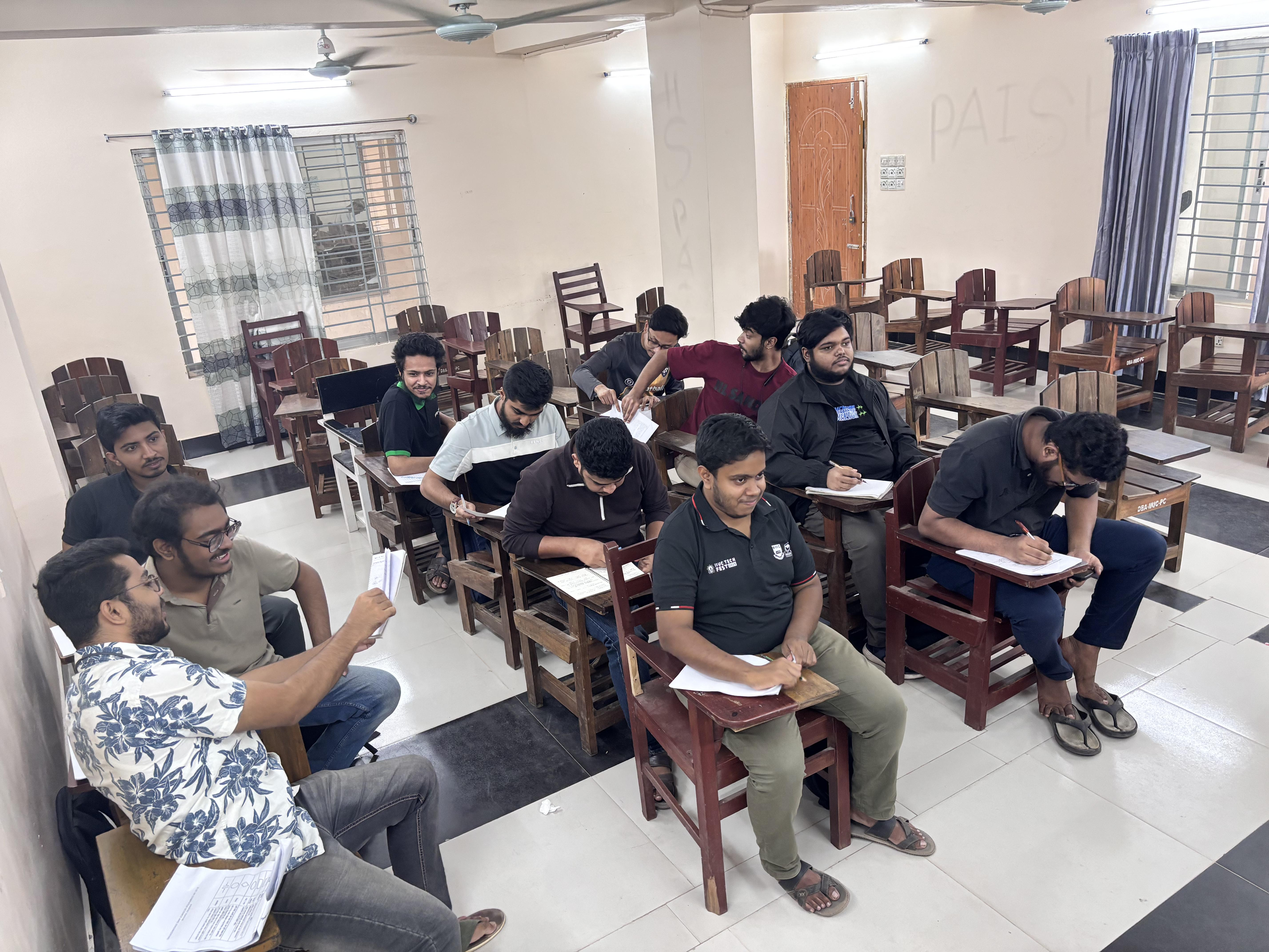exchanging_sheets: (16, 498, 434, 811), (569, 298, 806, 445)
no_cheating: (658, 415, 863, 774), (774, 304, 943, 542), (517, 430, 667, 629), (449, 370, 574, 574), (47, 394, 196, 533)
side_talking: (357, 334, 459, 528)
using_phone: (913, 388, 1187, 750)
